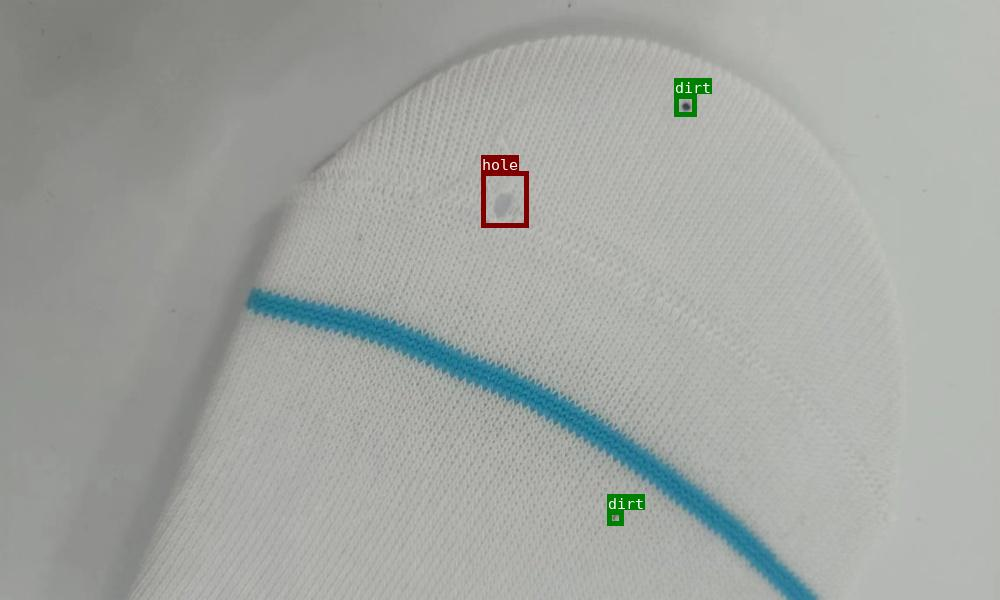dirt: (674, 94, 696, 116), (607, 510, 623, 525)
hole: (481, 171, 528, 227)
